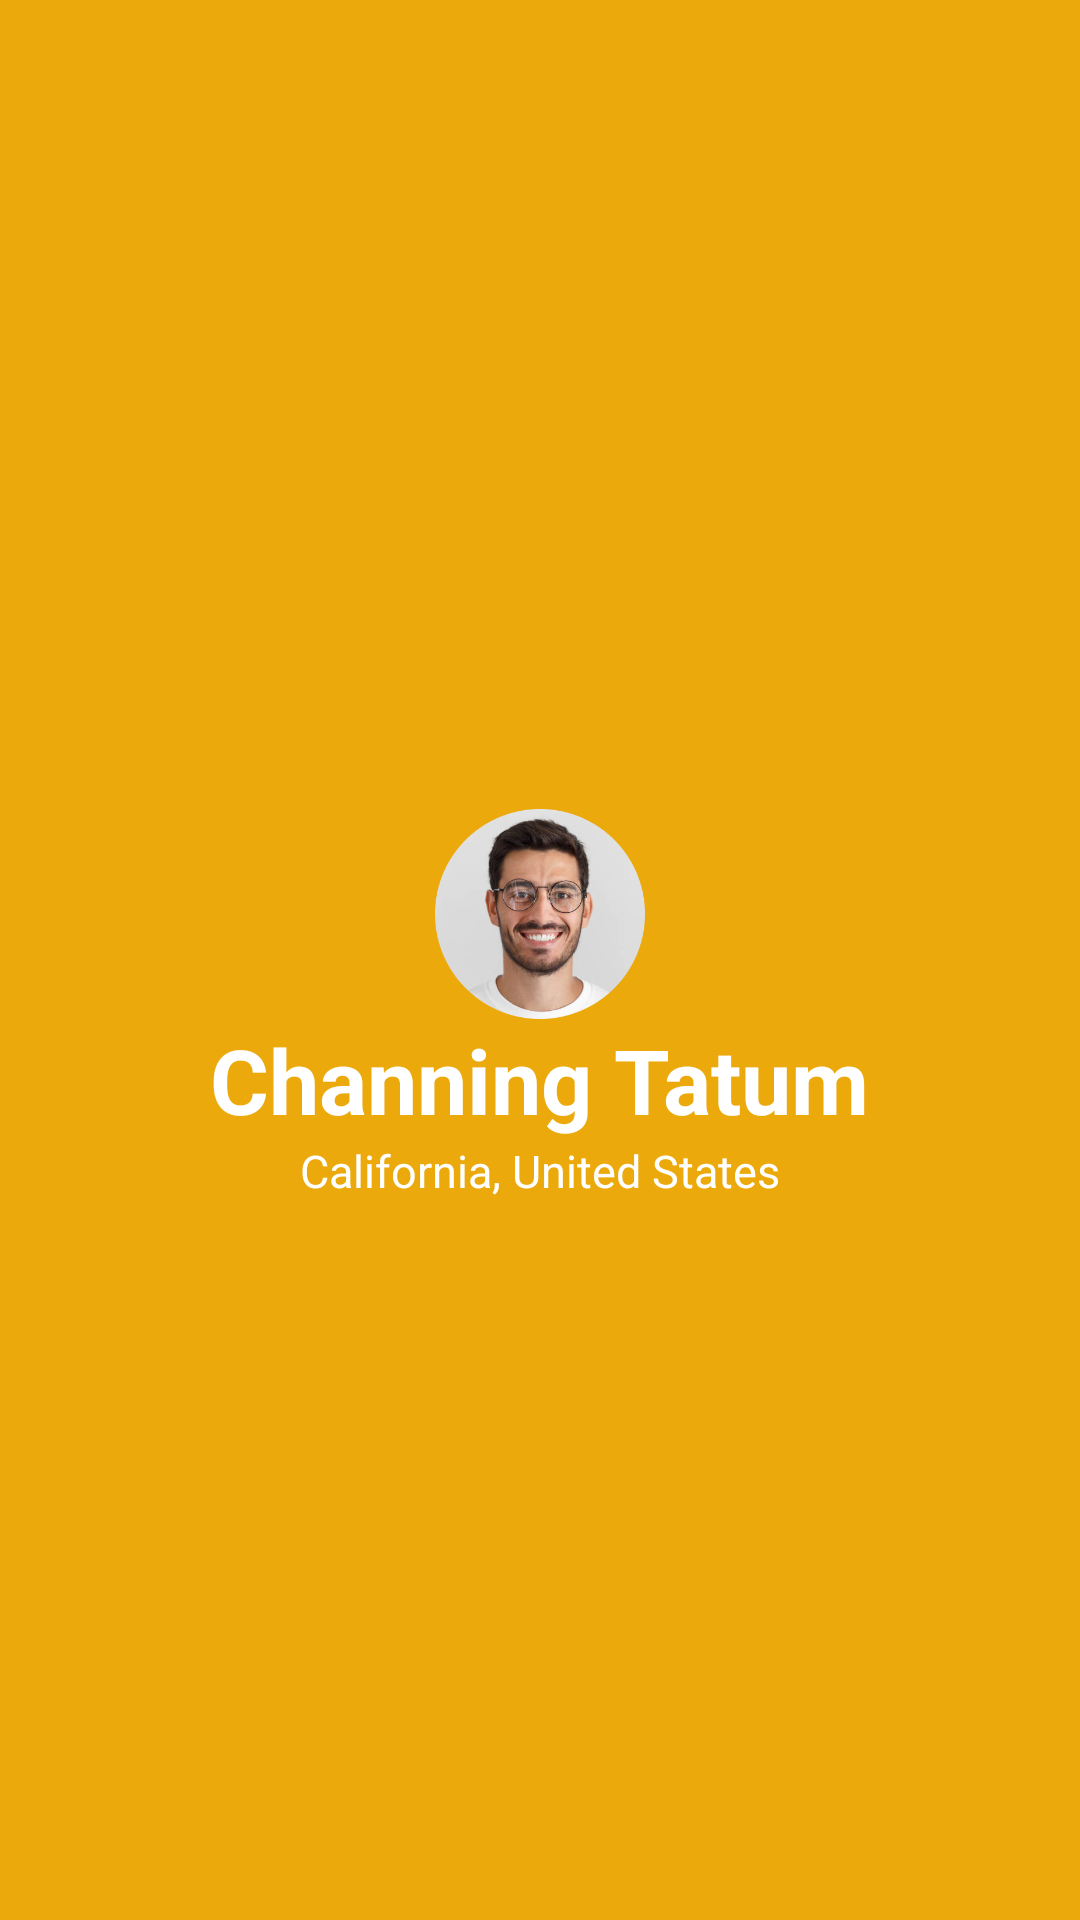

Locate icon controls on the screen. Image size 1080px x 1920px, boxes as (x1, y1, x2, y2).
circle: (435, 809, 645, 1019)
